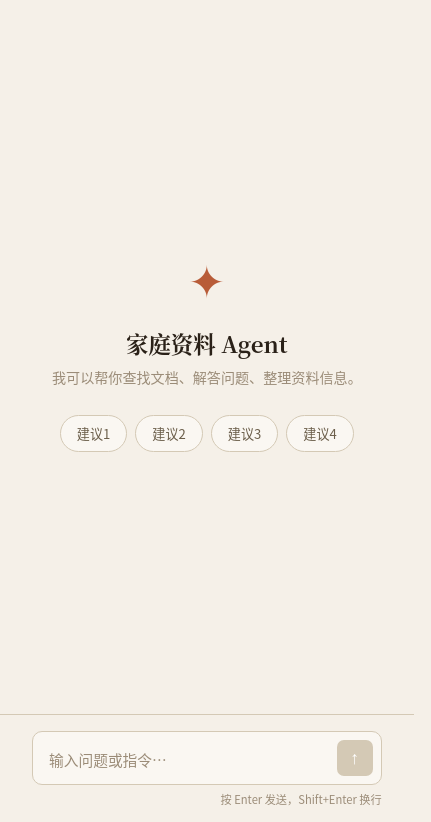
Test: Agent input Enter/Shift+Enter › uses Shift+Enter for newline and Enter for send
The width and height of the screenshot is (431, 822).
Type "测试问题" into the text box with placeholder "输入问题或指令…" at {"x": 189, "y": 760}, box left=49, top=744, right=329, bottom=776
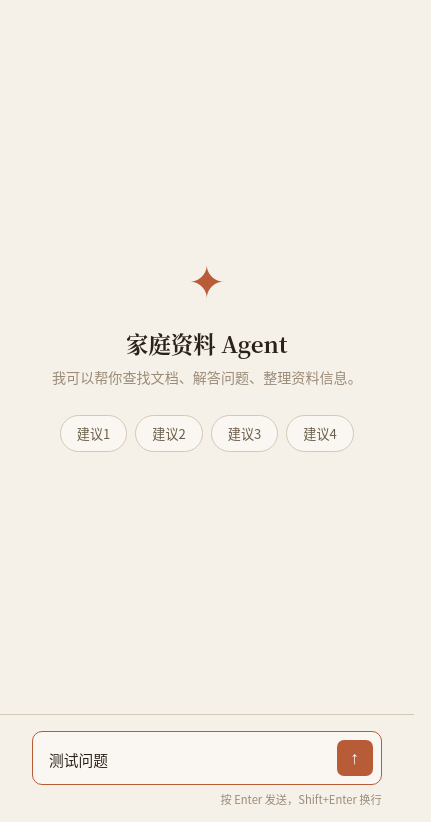
Type keys "{Shift>}{Enter}{/Shift}"
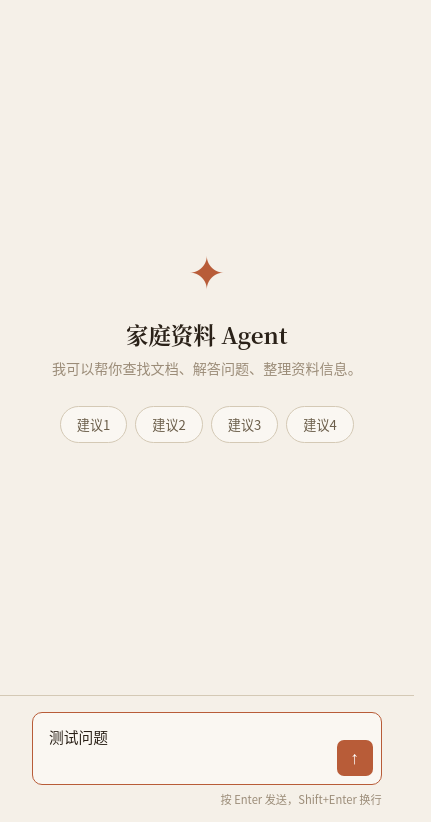
Press Enter
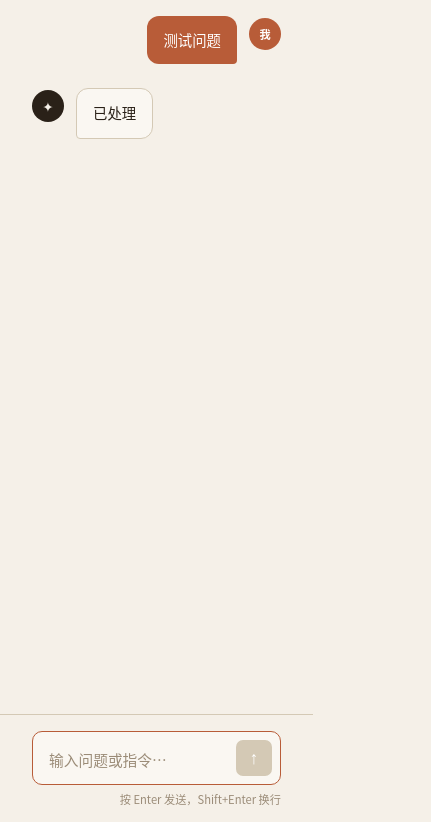
expect the text "测试问题" is shown: met, box left=163, top=29, right=221, bottom=50
